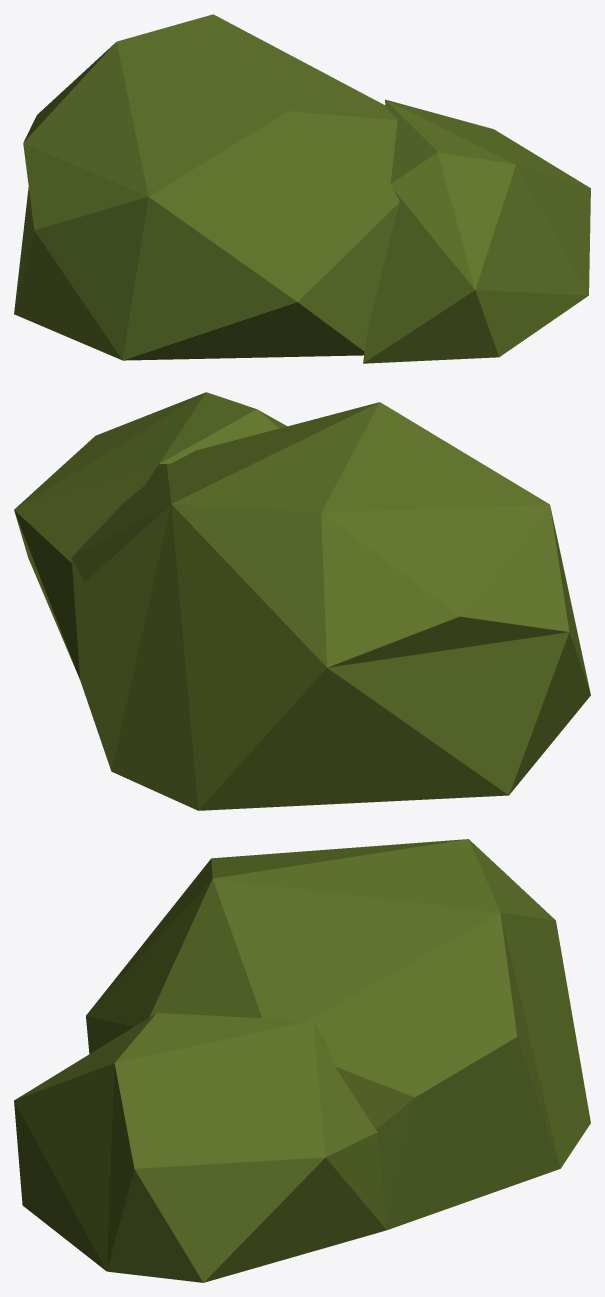
Rendered from Multi Bush 1.glb.
3 renders of one model, top to bottom at view 1: azimuth 30°, elevation 25°; view 2: azimuth 150°, elevation 25°; view 3: azimuth 270°, elevation 25°, orthographic. The views are drawn at different scales.
Visible parts, largest first — view 1: Multi Bush 1; view 2: Multi Bush 1; view 3: Multi Bush 1.
Part boxes in pixels (bbox=[...]): Multi Bush 1: bbox=[14, 14, 590, 363]; Multi Bush 1: bbox=[14, 392, 590, 810]; Multi Bush 1: bbox=[14, 839, 590, 1282].
Bounding box in the file's own units: 0.7468 × 0.3172 × 0.6411.
